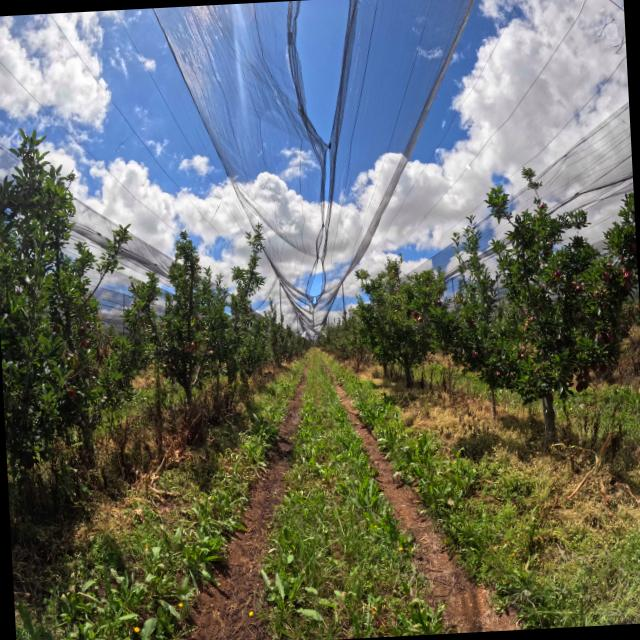-FireBlight-: (97, 331, 112, 367)
